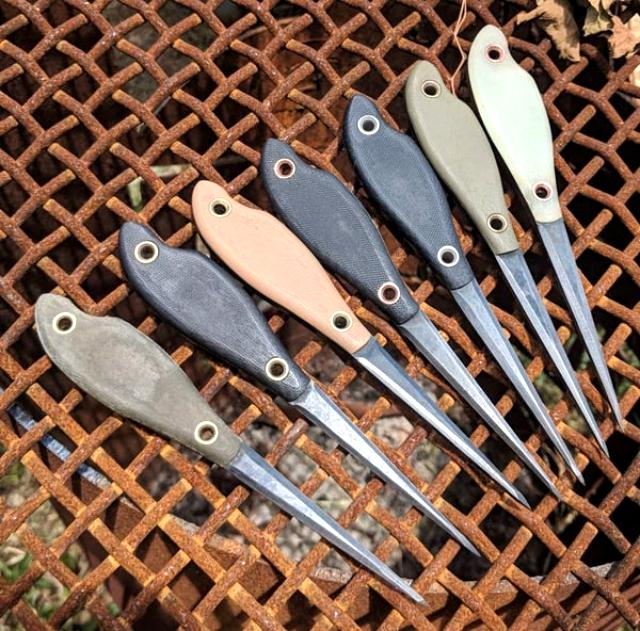ice pick: (117, 222, 485, 560), (36, 294, 432, 608), (193, 181, 533, 511), (261, 140, 565, 500), (342, 95, 588, 487), (403, 60, 611, 458), (468, 25, 624, 435)
